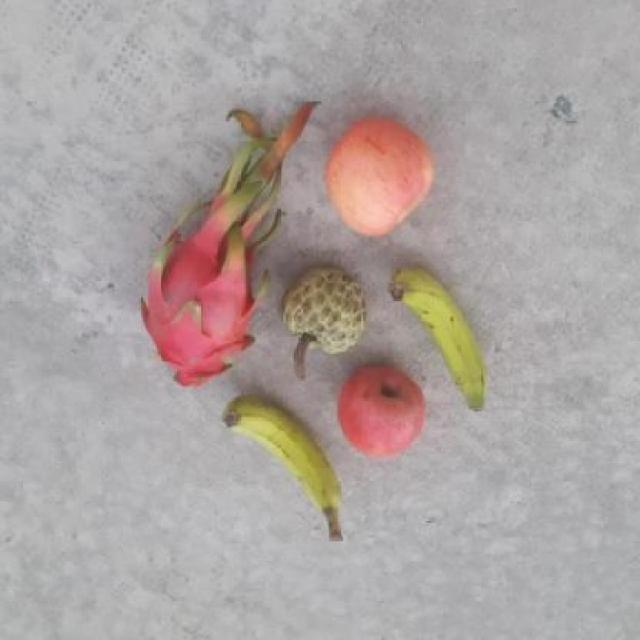apple: (312, 109, 436, 242), (325, 358, 433, 460)
banana: (209, 395, 342, 533), (388, 262, 494, 416)
dragon fruit: (129, 231, 266, 387)
sugar apple: (277, 271, 372, 358)
